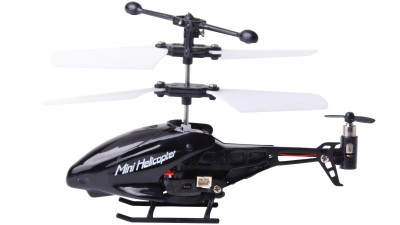drone: (30, 1, 383, 225)
